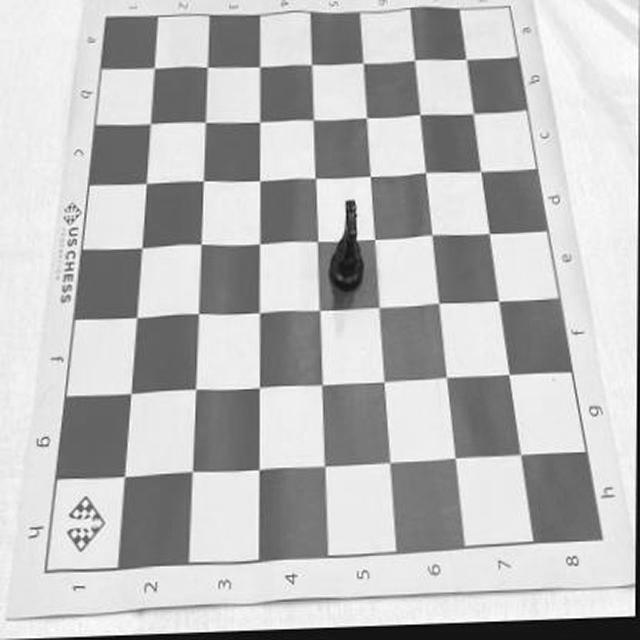chessboard: (46, 11, 603, 572)
